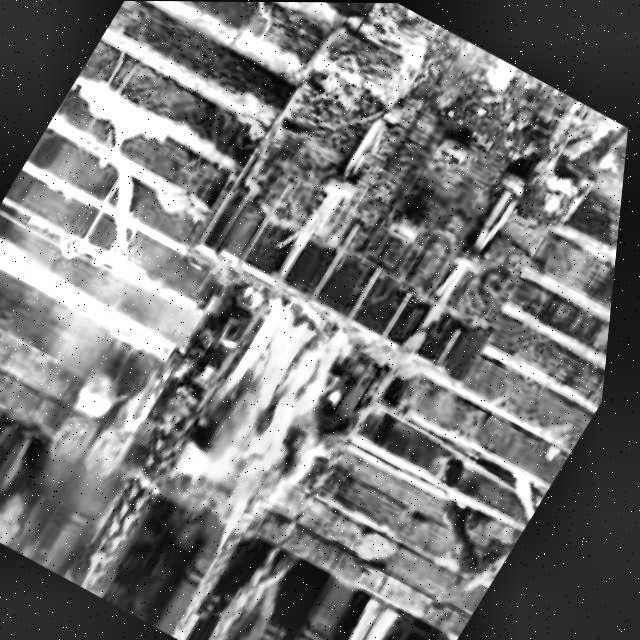Fire: (170, 289, 373, 523)
